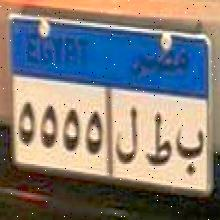5: (38, 99, 58, 151), (16, 99, 36, 151), (60, 107, 81, 156), (86, 105, 104, 160)
Taa: (144, 108, 172, 174)
baa: (176, 120, 204, 178)
laam: (114, 101, 140, 169)
